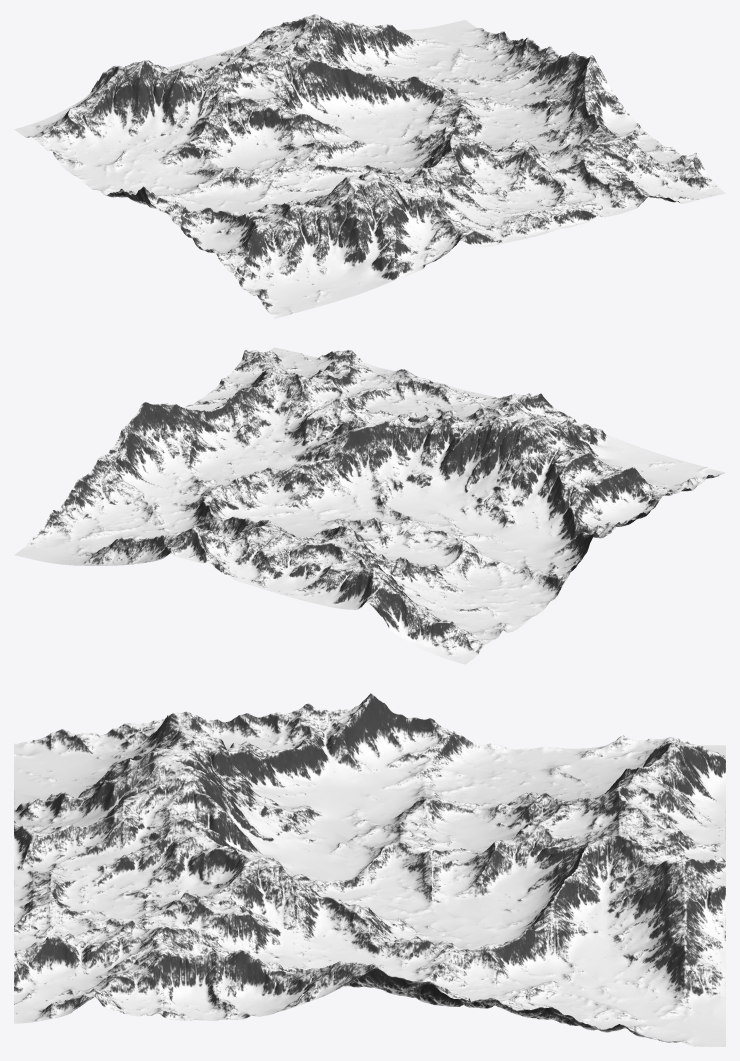
The model's file is snowy_mountain-lo.glb.
The picture shows the model from 3 angles, top to bottom: view 1: azimuth 30°, elevation 25°; view 2: azimuth 150°, elevation 25°; view 3: azimuth 270°, elevation 25°; orthographic projection. The views are drawn at different scales.
Visible parts, largest first — view 1: Object_2; view 2: Object_2; view 3: Object_2.
Part boxes in pixels (x1,y1,x2,y2): Object_2: (14,14,725,318); Object_2: (14,347,725,664); Object_2: (14,693,725,1046).
Size of the model in its own units: 1 by 0.1432 by 1.
1 material, 1 textured.
